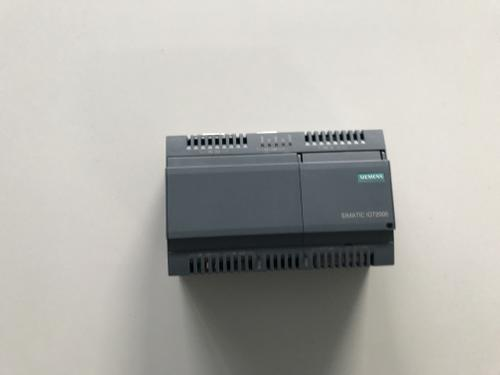device: (165, 130, 397, 276)
